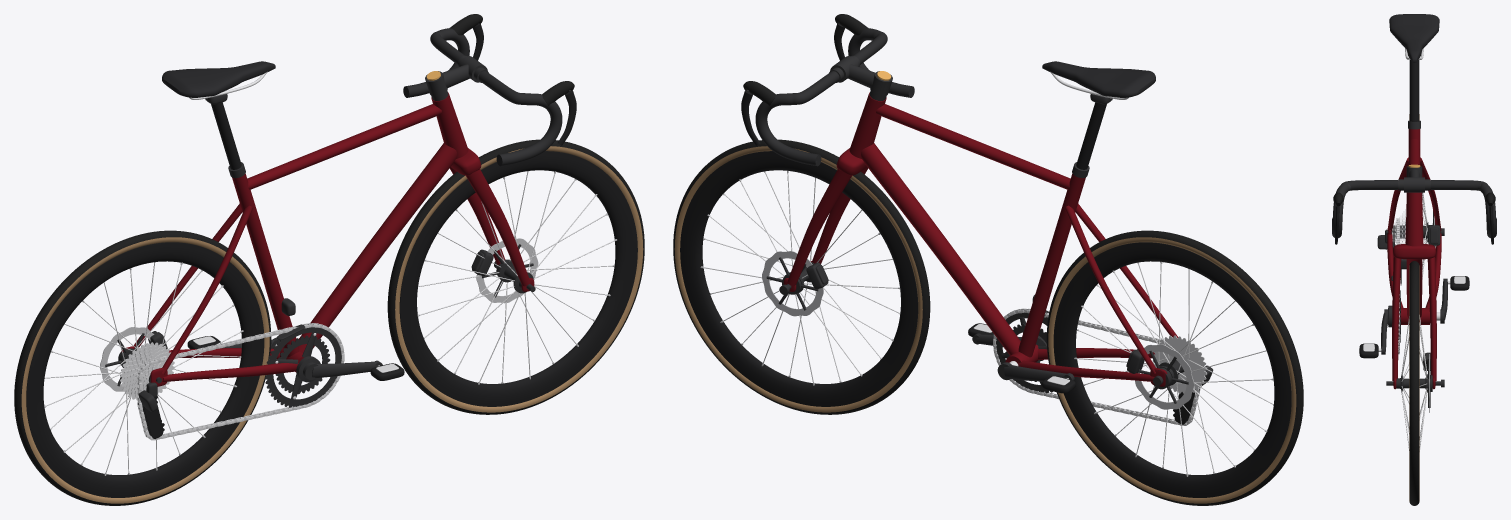
File: road_bike.glb
The picture shows the model from 3 angles, left to right: view 1: azimuth 30°, elevation 25°; view 2: azimuth 150°, elevation 25°; view 3: azimuth 270°, elevation 25°; orthographic projection. The views are drawn at different scales.
Parts seen in each view (by area): view 1: Frame_FramePaint, FrontWheel_Carbon, RearWheel_Carbon, RearWheel_TanWall, RearWheel_Rubber, FrontWheel_TanWall, Drivetrain_AluBlack, FrontWheel_Rubber, Cockpit_BarTape, FrontWheel_Steel, Fork_FramePaint, RearWheel_Steel (+11 smaller); view 2: Frame_FramePaint, FrontWheel_Carbon, RearWheel_Carbon, RearWheel_TanWall, RearWheel_Rubber, FrontWheel_TanWall, FrontWheel_Rubber, Cockpit_BarTape, Fork_FramePaint, RearWheel_Steel, FrontWheel_Steel, Saddle_Saddle (+10 smaller); view 3: Frame_FramePaint, FrontWheel_Rubber, Fork_FramePaint, Cockpit_BarTape, Saddle_Saddle, Drivetrain_AluBlack, FrontWheel_Steel, Cockpit_AluBlack, Seatpost_Carbon, FrontWheel_AluBlack, FrontWheel_TanWall, Pedals_Carbon (+5 smaller).
Boxes of the visible parts, <box> form: Frame_FramePaint: <box>121,92,468,386</box>; FrontWheel_Carbon: <box>399,151,637,406</box>; RearWheel_Carbon: <box>26,242,264,497</box>; RearWheel_TanWall: <box>21,237,269,503</box>; RearWheel_Rubber: <box>14,230,271,505</box>; FrontWheel_TanWall: <box>395,146,643,412</box>; Drivetrain_AluBlack: <box>148,323,382,407</box>; FrontWheel_Rubber: <box>387,139,644,414</box>; Cockpit_BarTape: <box>403,28,562,166</box>; FrontWheel_Steel: <box>418,171,614,382</box>; Fork_FramePaint: <box>449,148,534,291</box>; RearWheel_Steel: <box>44,262,241,473</box>; Frame_FramePaint: <box>849,92,1178,386</box>; FrontWheel_Carbon: <box>680,151,918,406</box>; RearWheel_Carbon: <box>1053,242,1291,497</box>; RearWheel_TanWall: <box>1048,237,1296,503</box>; RearWheel_Rubber: <box>1046,230,1303,505</box>; FrontWheel_TanWall: <box>674,146,922,412</box>; FrontWheel_Rubber: <box>673,139,930,414</box>; Cockpit_BarTape: <box>755,28,914,166</box>; Fork_FramePaint: <box>783,148,868,291</box>; RearWheel_Steel: <box>1076,263,1273,474</box>; FrontWheel_Steel: <box>703,172,899,383</box>; Saddle_Saddle: <box>1042,61,1155,97</box>; Frame_FramePaint: <box>1387,129,1441,324</box>; FrontWheel_Rubber: <box>1409,261,1419,505</box>; Fork_FramePaint: <box>1392,244,1436,389</box>; Cockpit_BarTape: <box>1332,180,1496,238</box>; Saddle_Saddle: <box>1389,14,1439,62</box>; Drivetrain_AluBlack: <box>1381,225,1447,354</box>; FrontWheel_Steel: <box>1401,315,1427,451</box>; Cockpit_AluBlack: <box>1348,166,1480,192</box>; Seatpost_Carbon: <box>1409,59,1419,121</box>; FrontWheel_AluBlack: <box>1386,359,1444,407</box>; FrontWheel_TanWall: <box>1409,265,1419,501</box>; Pedals_Carbon: <box>1359,276,1469,358</box>.
Size of the model in its own units: 1.67 by 1.05 by 0.4573.
